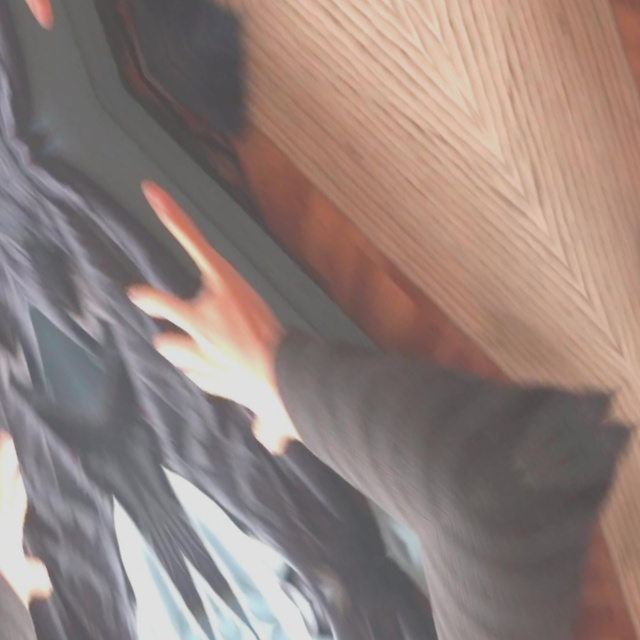Paper: (0, 0, 94, 76)
